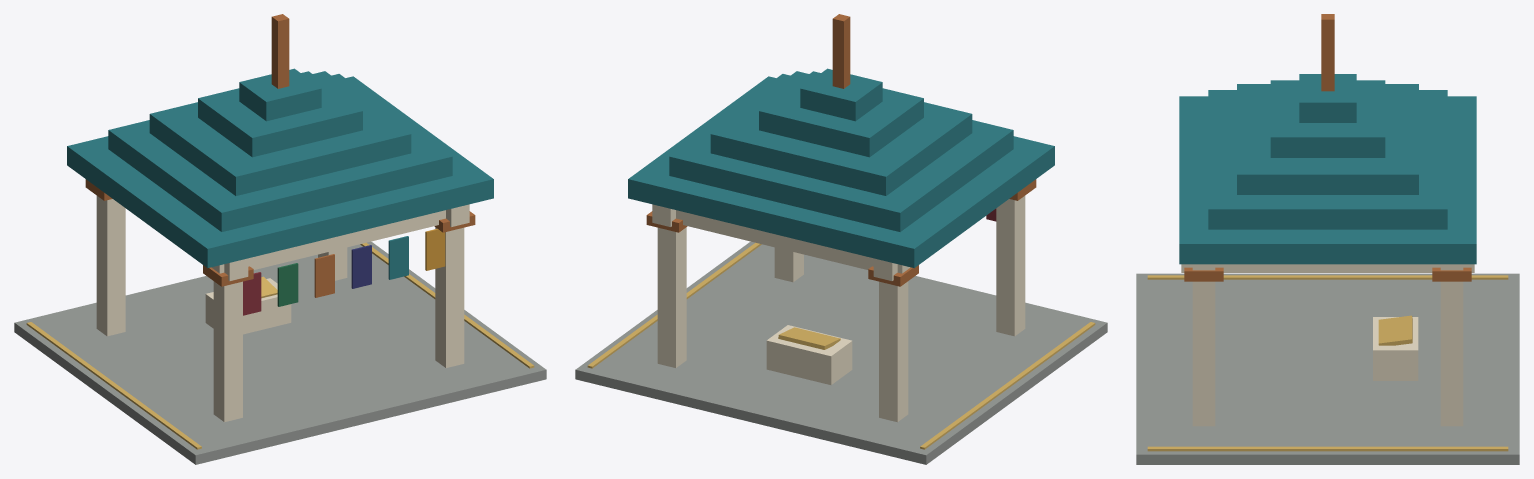
Rendered from crosshaven_charter_pavilion.glb.
3 views of the same model, side by side, from view 1: azimuth 30°, elevation 25°; view 2: azimuth 150°, elevation 25°; view 3: azimuth 270°, elevation 25° (orthographic). The views are drawn at different scales.
Visible parts, largest first — view 1: crosshaven_charter_pavilion; view 2: crosshaven_charter_pavilion; view 3: crosshaven_charter_pavilion.
Part boxes in pixels (<box>): crosshaven_charter_pavilion: <box>14,14,546,464</box>; crosshaven_charter_pavilion: <box>575,14,1107,464</box>; crosshaven_charter_pavilion: <box>1136,14,1519,464</box>.
Size of the model in its own units: 38 by 35 by 34.
